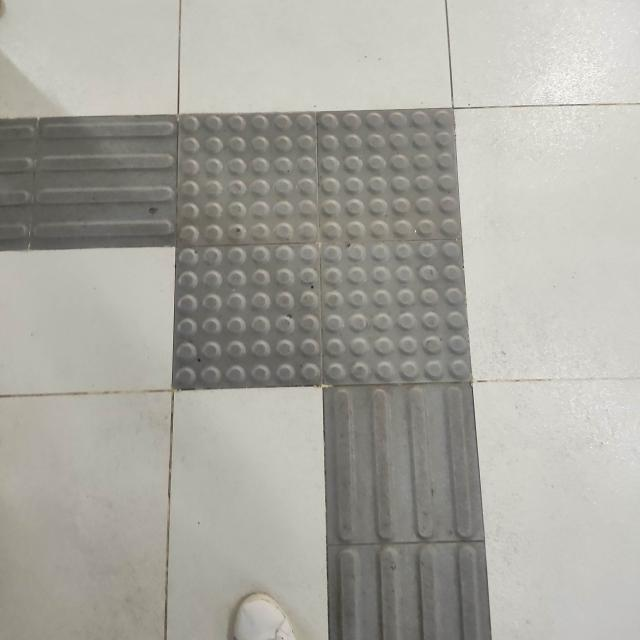kiri: (9, 67, 578, 436)
